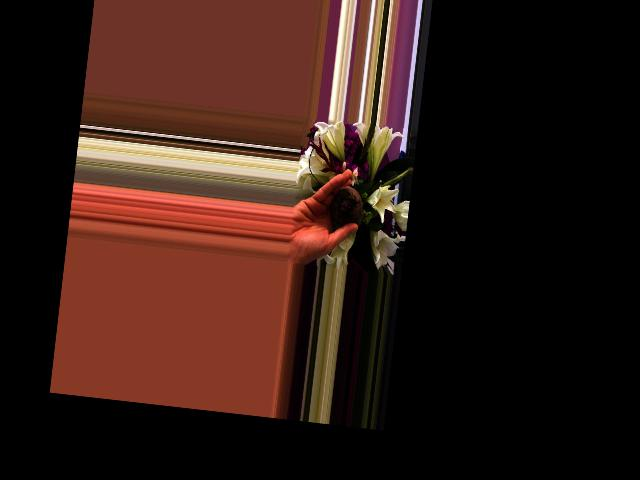beet: (328, 183, 364, 227)
